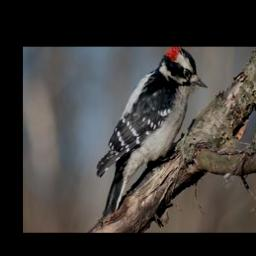Woodpecker: (95, 47, 211, 221)
